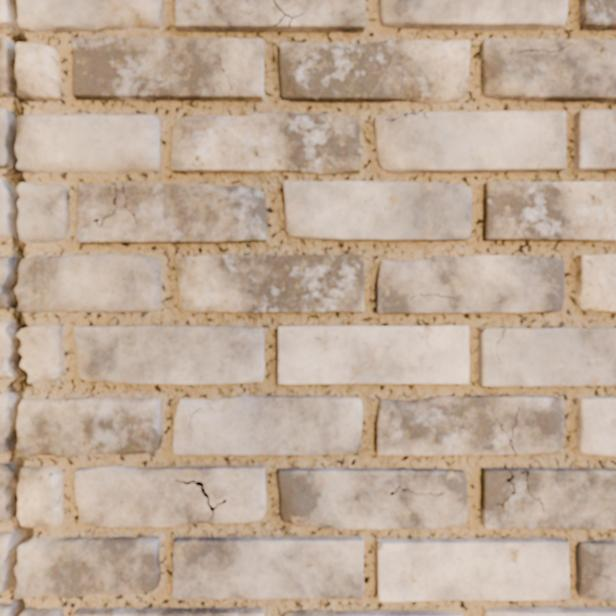brick: (377, 538, 568, 601), (73, 38, 263, 100), (279, 40, 468, 102), (173, 537, 362, 598), (374, 112, 565, 172), (75, 466, 265, 526), (172, 113, 360, 173), (279, 468, 466, 528), (77, 184, 267, 242), (173, 396, 361, 454), (284, 182, 471, 240), (376, 396, 563, 454), (278, 326, 468, 383), (74, 326, 264, 383), (176, 255, 363, 312), (376, 256, 563, 312), (480, 39, 615, 101), (481, 468, 615, 528), (479, 328, 615, 385), (483, 182, 615, 240), (175, 0, 364, 31), (379, 0, 567, 29), (574, 111, 615, 170), (576, 541, 615, 600), (576, 255, 615, 311), (577, 398, 615, 455), (74, 608, 263, 615), (483, 607, 615, 615), (580, 0, 615, 29), (283, 610, 462, 615)
broken_brick: (15, 536, 161, 598), (18, 396, 163, 457), (16, 254, 161, 313), (16, 113, 160, 172), (18, 0, 164, 33), (18, 182, 71, 243), (18, 465, 63, 527), (16, 42, 62, 102), (19, 325, 64, 383), (0, 531, 12, 594), (0, 35, 11, 98), (0, 321, 12, 378), (0, 108, 11, 169), (0, 177, 11, 237), (0, 392, 10, 453), (0, 462, 10, 523), (0, 255, 11, 308), (22, 607, 64, 615), (0, 0, 9, 28), (0, 602, 12, 615)
crack: (1, 0, 34, 615), (496, 404, 520, 454), (272, 0, 304, 27), (384, 110, 428, 121), (494, 328, 506, 365), (594, 572, 615, 583), (121, 184, 128, 208), (596, 0, 600, 5), (481, 328, 485, 333)
